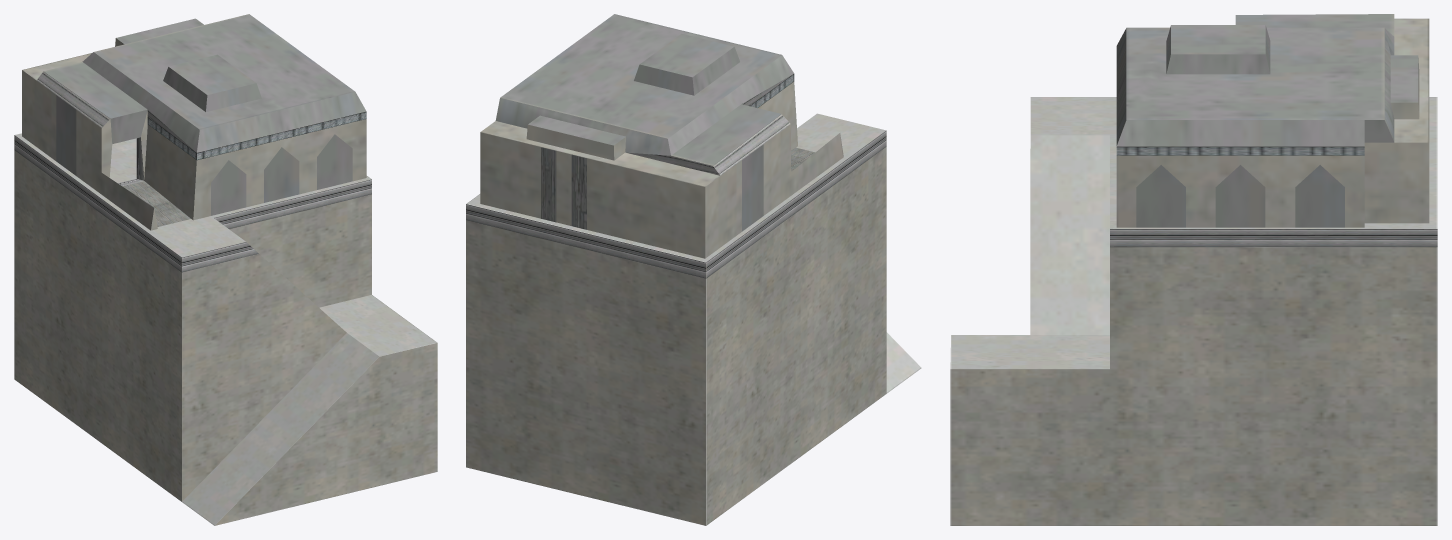
File: ply_all_house_sm_s01_fp1_r0_exterior_mesh_l2.fbx
The picture shows the model from 3 angles, left to right: view 1: azimuth 30°, elevation 25°; view 2: azimuth 150°, elevation 25°; view 3: azimuth 270°, elevation 25°; orthographic projection. The views are drawn at different scales.
Visible parts, largest first — view 1: mesh_node; view 2: mesh_node; view 3: mesh_node.
Boxes of the visible parts, bbox=[...] form: mesh_node: bbox=[14, 14, 437, 525]; mesh_node: bbox=[466, 14, 921, 525]; mesh_node: bbox=[950, 14, 1437, 525].
Bounding box in the file's own units: 15.74 × 23.24 × 24.55.
